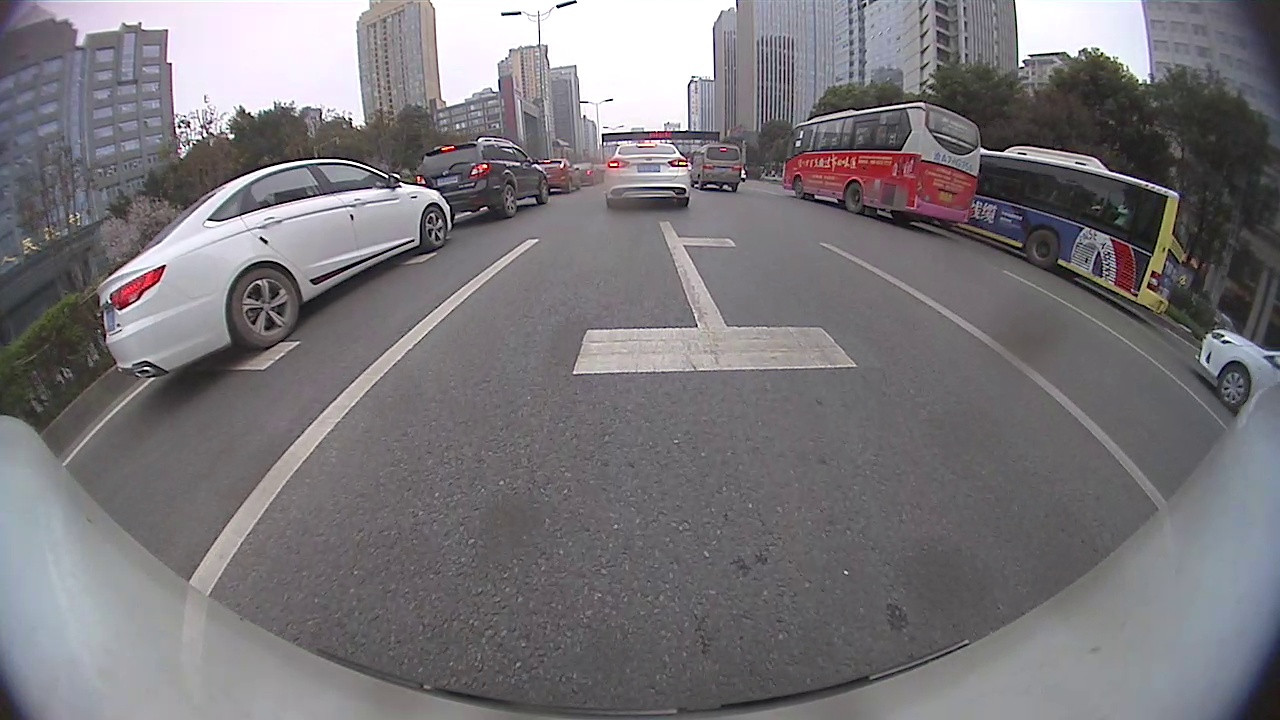bus: (969, 145, 1186, 315), (781, 101, 982, 228)
car: (92, 158, 452, 378), (413, 136, 550, 220), (1193, 327, 1279, 408), (602, 143, 692, 207), (692, 144, 742, 193), (538, 159, 584, 193)
front: (1216, 365, 1252, 408), (421, 206, 449, 248), (534, 174, 552, 207), (793, 172, 805, 197)
rear: (229, 267, 301, 349), (1027, 229, 1058, 269), (845, 180, 864, 214), (501, 184, 519, 218)
